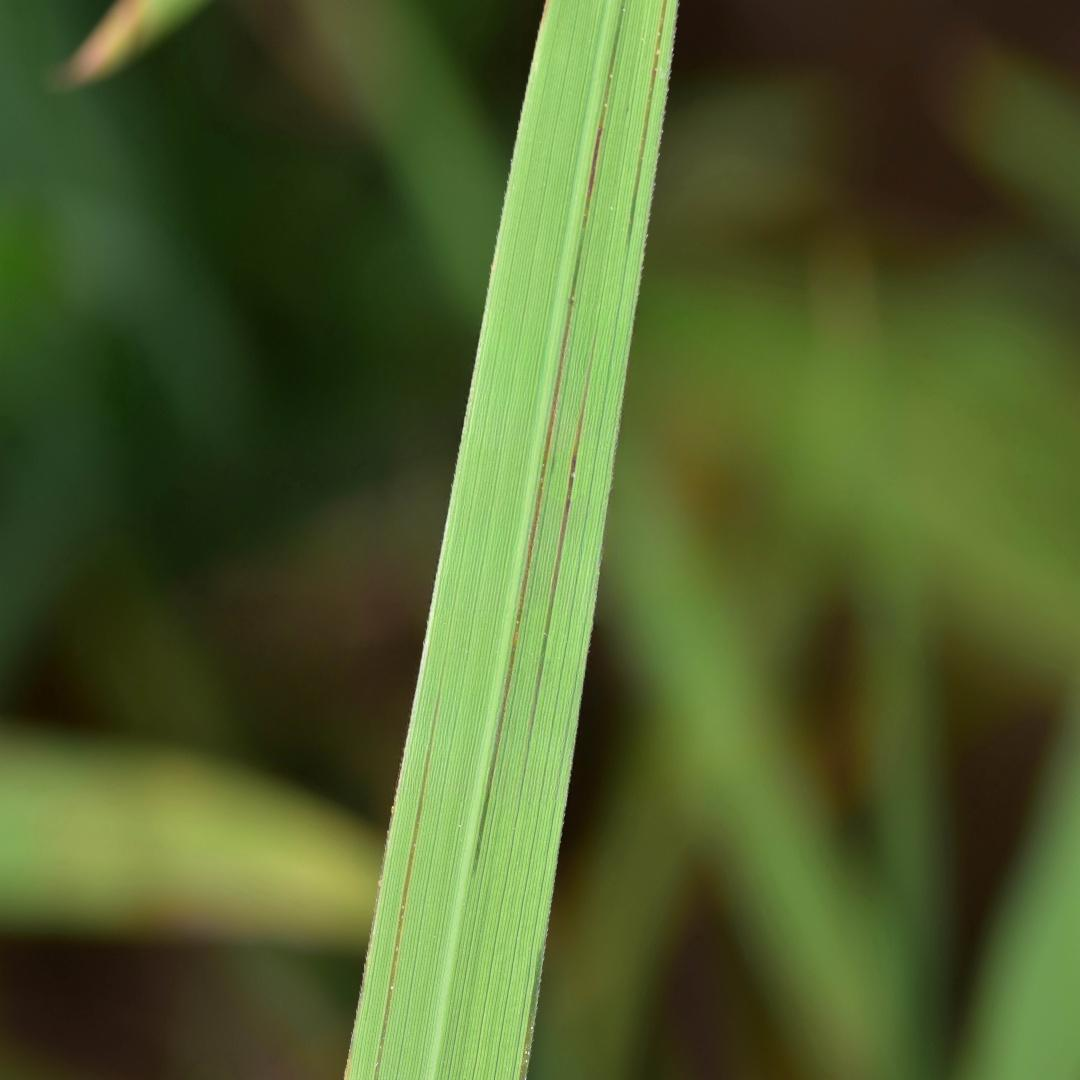BLS: (473, 0, 626, 873), (525, 321, 598, 770), (374, 660, 444, 1079), (627, 0, 667, 244), (519, 906, 551, 1079)
LEAF: (345, 0, 675, 1079)
